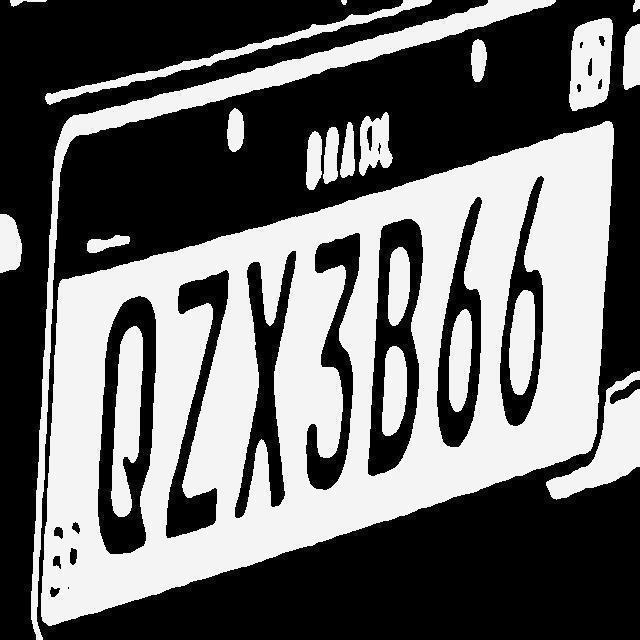3: (302, 228, 363, 497)
6: (494, 172, 552, 430), (436, 187, 489, 456)
b: (365, 206, 423, 481)
q: (96, 288, 160, 560)
x: (236, 250, 298, 526)
z: (165, 267, 232, 554)
